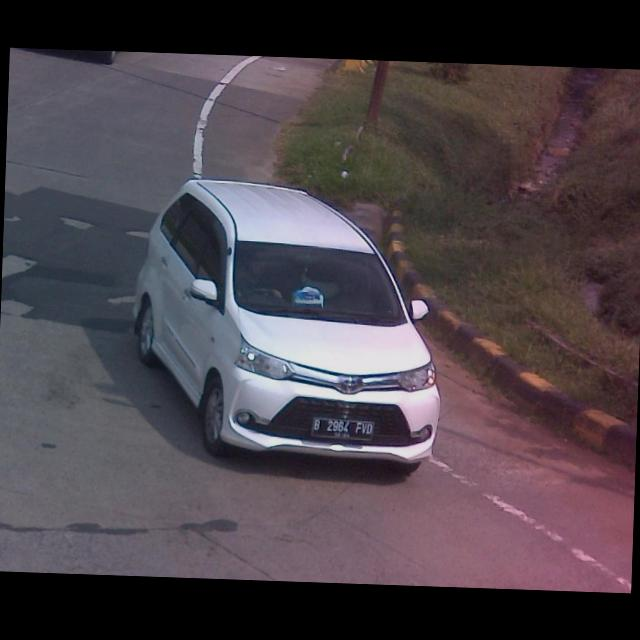plate: (310, 414, 378, 442)
